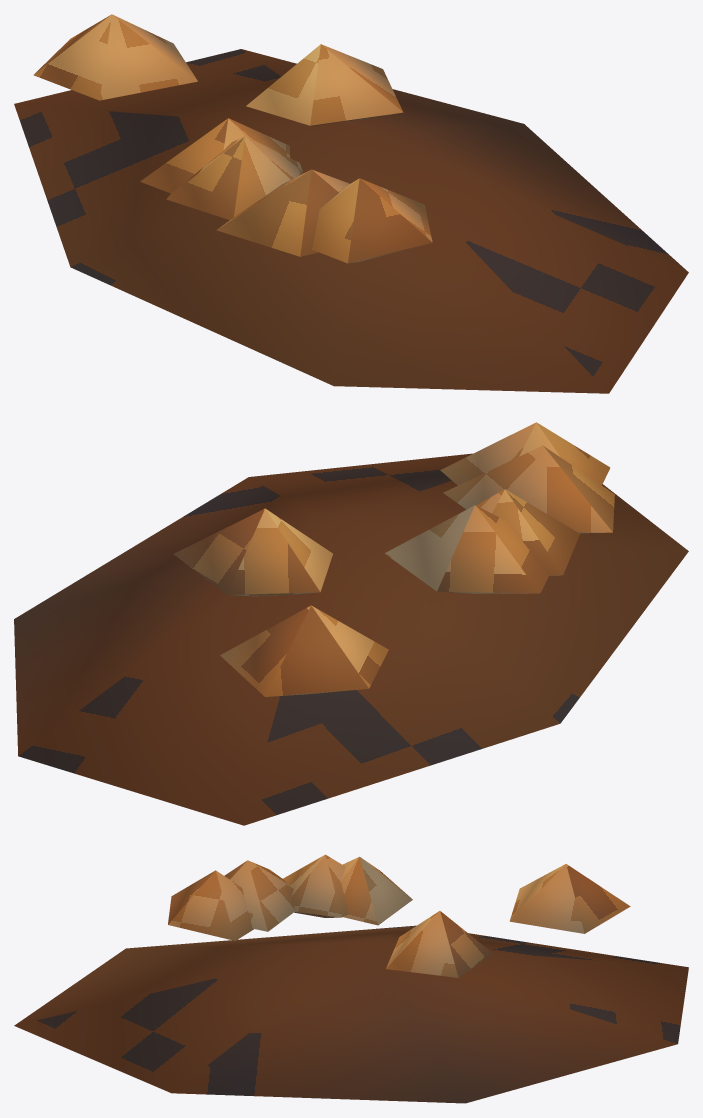
The model's file is wprop.tombstone__cairn.glb.
3 views of the same model, one above another, from view 1: azimuth 30°, elevation 25°; view 2: azimuth 150°, elevation 25°; view 3: azimuth 270°, elevation 25° (orthographic). The views are drawn at different scales.
Parts seen in each view (by area): view 1: kit_mound, kit_stones; view 2: kit_mound, kit_stones; view 3: kit_mound, kit_stones.
Boxes of the visible parts, box(x1,y1,x2,y2) form: kit_mound: box(14, 49, 688, 393); kit_stones: box(33, 14, 432, 263); kit_mound: box(14, 453, 688, 825); kit_stones: box(173, 422, 614, 696); kit_mound: box(14, 925, 688, 1103); kit_stones: box(168, 854, 630, 977).
Size of the model in its own units: 0.8468 by 0.328 by 1.34.
Materials: 2 (2 with a texture image).
